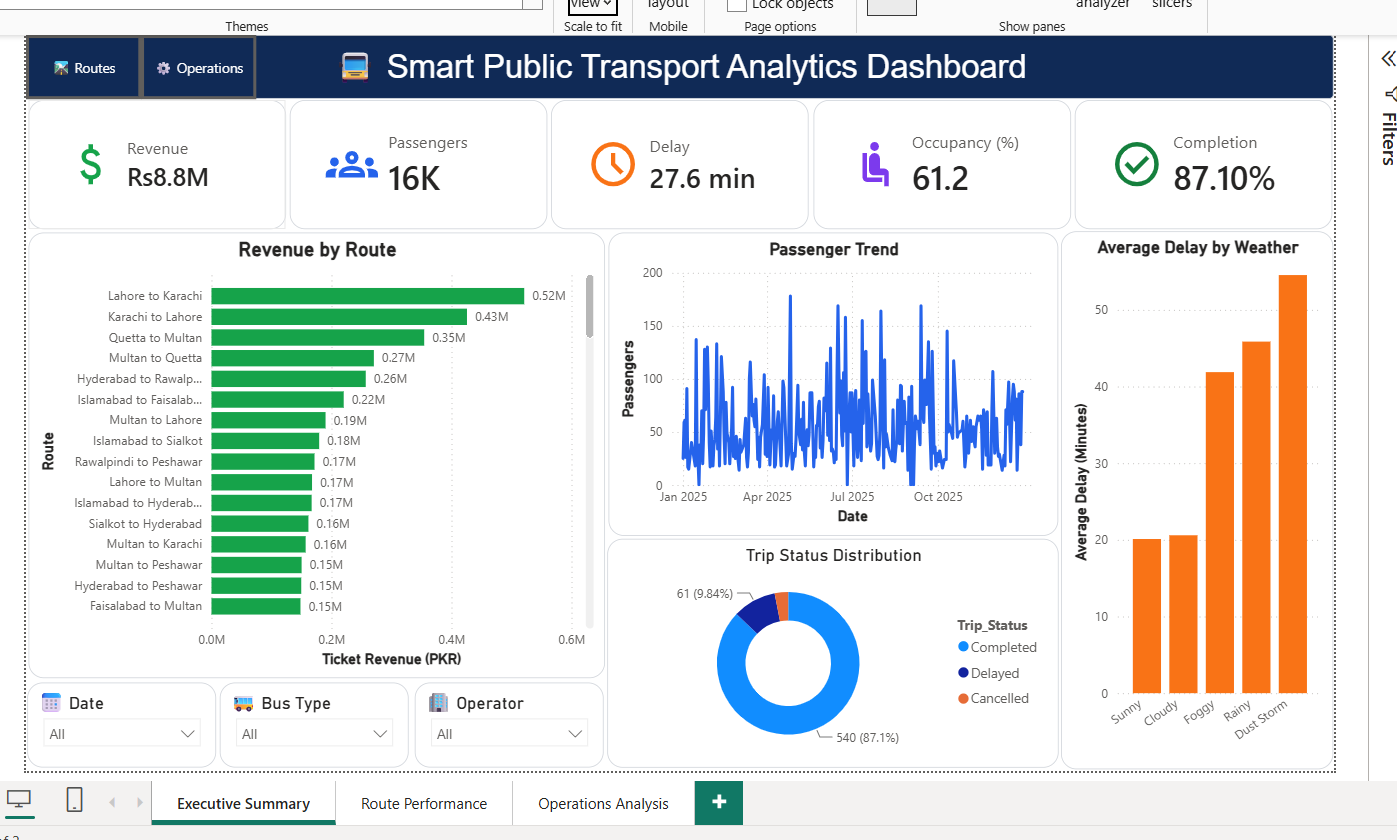

Layout of this report page (visuals, bound fields, positions):
{"tool":"powerbi","page":{"name":"Executive Summary","canvas":[1280,720],"ordinal":0},"visuals":[{"type":"cardVisual","fields":{"Data":["dashboard_dataset.Total Revenue"]},"box":[2,64,252,126],"z":0},{"type":"cardVisual","fields":{"Data":["dashboard_dataset.Total Passengers"]},"box":[258,64,252,126],"z":1000},{"type":"cardVisual","fields":{"Data":["dashboard_dataset.Average Delay"]},"box":[514,64,252,126],"z":2000},{"type":"cardVisual","fields":{"Data":["dashboard_dataset.Occupancy (%)"]},"box":[770,64,252,126],"z":3000},{"type":"cardVisual","fields":{"Data":["dashboard_dataset.Completion Rate"]},"box":[1026,64,252,126],"z":4000},{"type":"clusteredBarChart","title":"Revenue by Route","fields":{"Y":["Sum(dashboard_dataset.Ticket_Revenue_PKR)"],"Category":["dashboard_dataset.Route_Name"]},"box":[2,193,564,436],"z":5000},{"type":"lineChart","title":"Passenger Trend","fields":{"Y":["Sum(dashboard_dataset.Passenger_Count)"],"Category":["dashboard_dataset.Date.Variation.Date Hierarchy.Year","dashboard_dataset.Date.Variation.Date Hierarchy.Quarter","dashboard_dataset.Date.Variation.Date Hierarchy.Month","dashboard_dataset.Date.Variation.Date Hierarchy.Day"]},"box":[570,193,440,296.7],"z":6000},{"type":"textbox","box":[0,0,1279.2,62.5],"z":7000},{"type":"donutChart","title":"Trip Status Distribution","fields":{"Category":["dashboard_dataset.Trip_Status"],"Y":["CountNonNull(dashboard_dataset.Trip_ID)"]},"box":[568.3,493.3,441.7,224],"z":8000},{"type":"columnChart","title":"Average Delay by Weather","fields":{"Category":["dashboard_dataset.Weather_Condition"],"Y":["Avg(dashboard_dataset.Delay_Minutes)"]},"box":[1012,191.7,266.7,526.7],"z":9000},{"type":"slicer","title":"📅 Date","fields":{"Values":["dashboard_dataset.Date"]},"box":[1.7,633.3,185,83.3],"z":10000},{"type":"slicer","title":"🚌 Bus Type ","fields":{"Values":["dashboard_dataset.Bus_Type"]},"box":[190,633.3,185,83.3],"z":11000},{"type":"slicer","title":"🏢 Operator","fields":{"Values":["dashboard_dataset.Operator_Name"]},"box":[380,633.3,185,83.3],"z":12000},{"type":"actionButton","title":"🛣️ Routes","box":[0,0,112.9,62.9],"z":13000},{"type":"actionButton","title":"🛣️ Routes","box":[112.9,0,112.9,62.9],"z":14000}]}

Visuals, with their boxes on the page's 1280x720 design canvas (x1, y1, x2, y2). These are canvas units, not pixel positions in the 1397x840 screenshot, which may show the page scaled, cropped or inside an application window:
cardVisual - dashboard_dataset.Total Revenue: (2, 64, 254, 190)
cardVisual - dashboard_dataset.Total Passengers: (258, 64, 510, 190)
cardVisual - dashboard_dataset.Average Delay: (514, 64, 766, 190)
cardVisual - dashboard_dataset.Occupancy (%): (770, 64, 1022, 190)
cardVisual - dashboard_dataset.Completion Rate: (1026, 64, 1278, 190)
"Revenue by Route" clusteredBarChart: (2, 193, 566, 629)
"Passenger Trend" lineChart: (570, 193, 1010, 490)
textbox: (0, 0, 1279, 62)
"Trip Status Distribution" donutChart: (568, 493, 1010, 717)
"Average Delay by Weather" columnChart: (1012, 192, 1279, 718)
"📅 Date" slicer: (2, 633, 187, 717)
"🚌 Bus Type " slicer: (190, 633, 375, 717)
"🏢 Operator" slicer: (380, 633, 565, 717)
"🛣️ Routes" actionButton: (0, 0, 113, 63)
"🛣️ Routes" actionButton: (113, 0, 226, 63)
